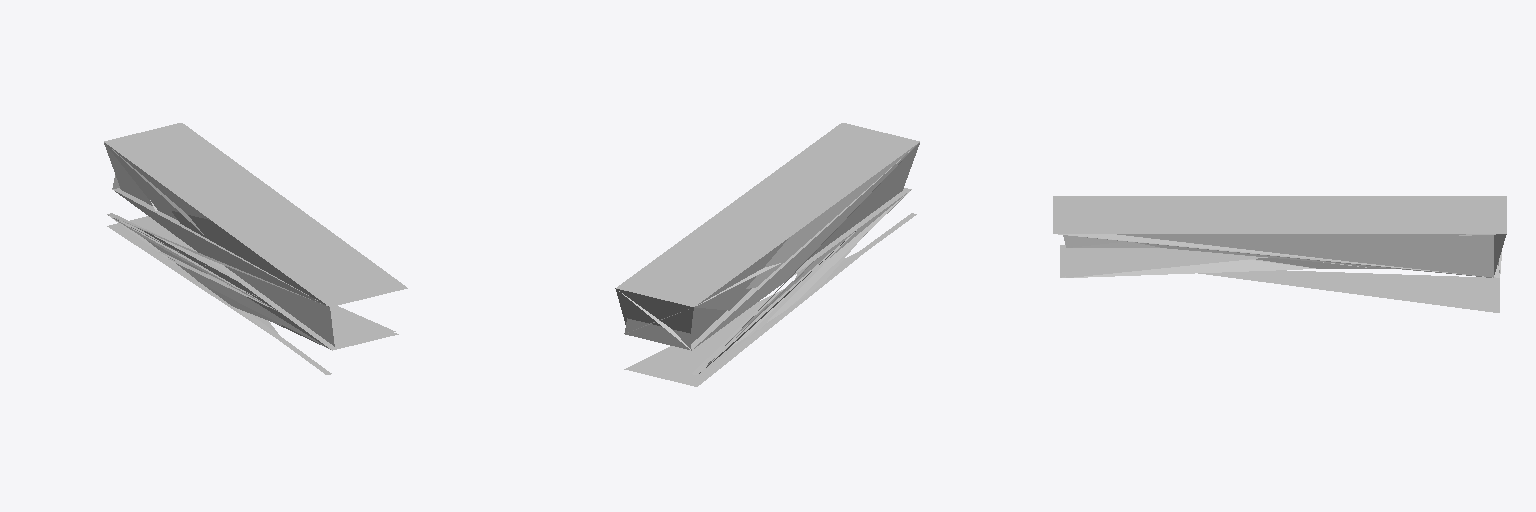
Rendered from Reception Desk.obj.
The picture shows the model from 3 angles: view 1: azimuth 30°, elevation 25°; view 2: azimuth 150°, elevation 25°; view 3: azimuth 270°, elevation 25°; orthographic projection.
Bounding box in the file's own units: 14 × 14 × 70.